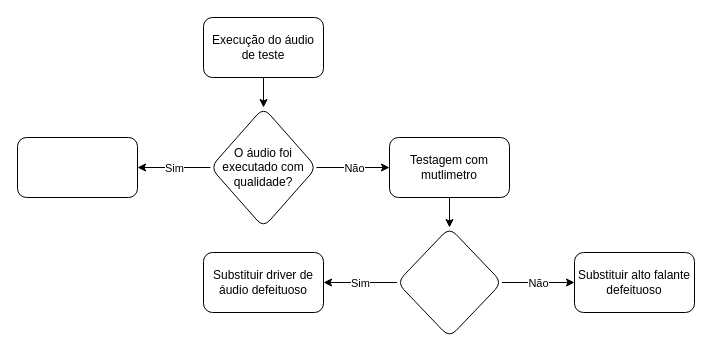
This 712x355 diagram has some shape labels left out. The shapes that lost their labels are listed below. From the top down, each one's box as (x1, y1, x2, y2) in pixels, then its label:
(16, 136, 138, 198): Sistema funcionando corretamente
(396, 226, 502, 338): A resistência medida foi de 4 ohms?
